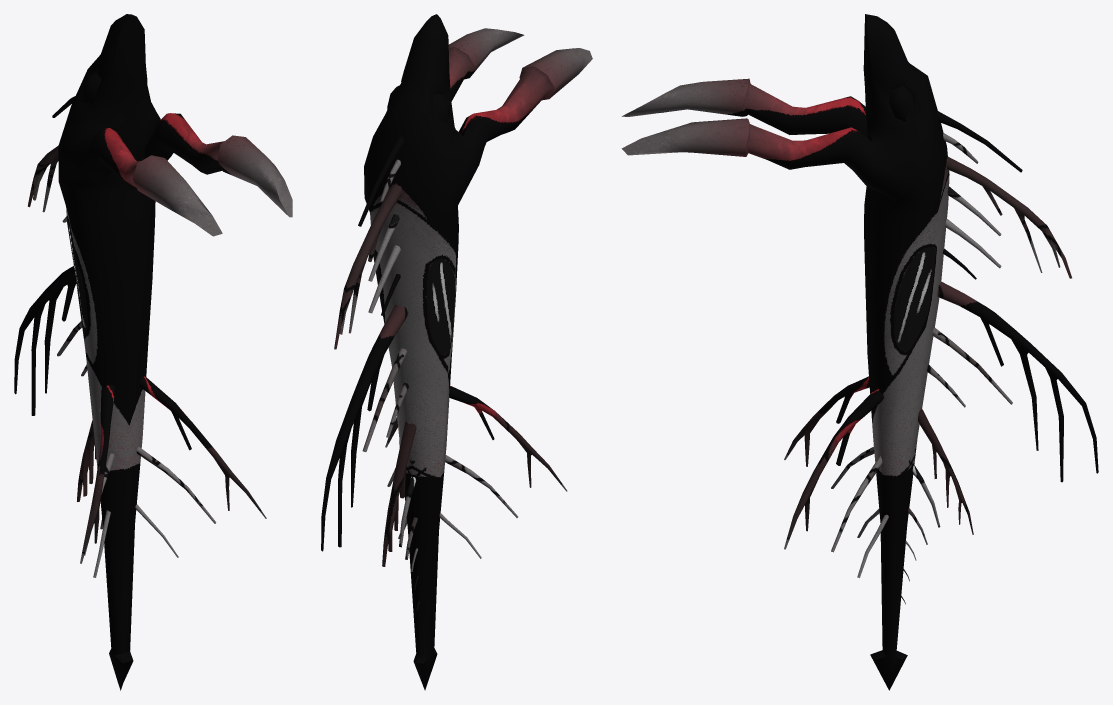
The model's file is model_creature_smogviper.fbx.
The picture shows the model from 3 angles, left to right: view 1: azimuth 30°, elevation 25°; view 2: azimuth 150°, elevation 25°; view 3: azimuth 270°, elevation 25°; orthographic projection. The views are drawn at different scales.
Visible parts, largest first — view 1: Cube.001; view 2: Cube.001; view 3: Cube.001.
Boxes of the visible parts, x1,y1,x2,y2 form: Cube.001: [14, 14, 292, 690]; Cube.001: [321, 14, 592, 690]; Cube.001: [621, 14, 1098, 690].
Size of the model in its own units: 65.03 by 228 by 146.
